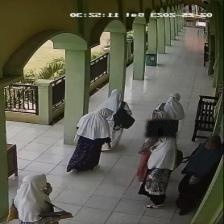Cadar_Niqab: (145, 110, 176, 137)
